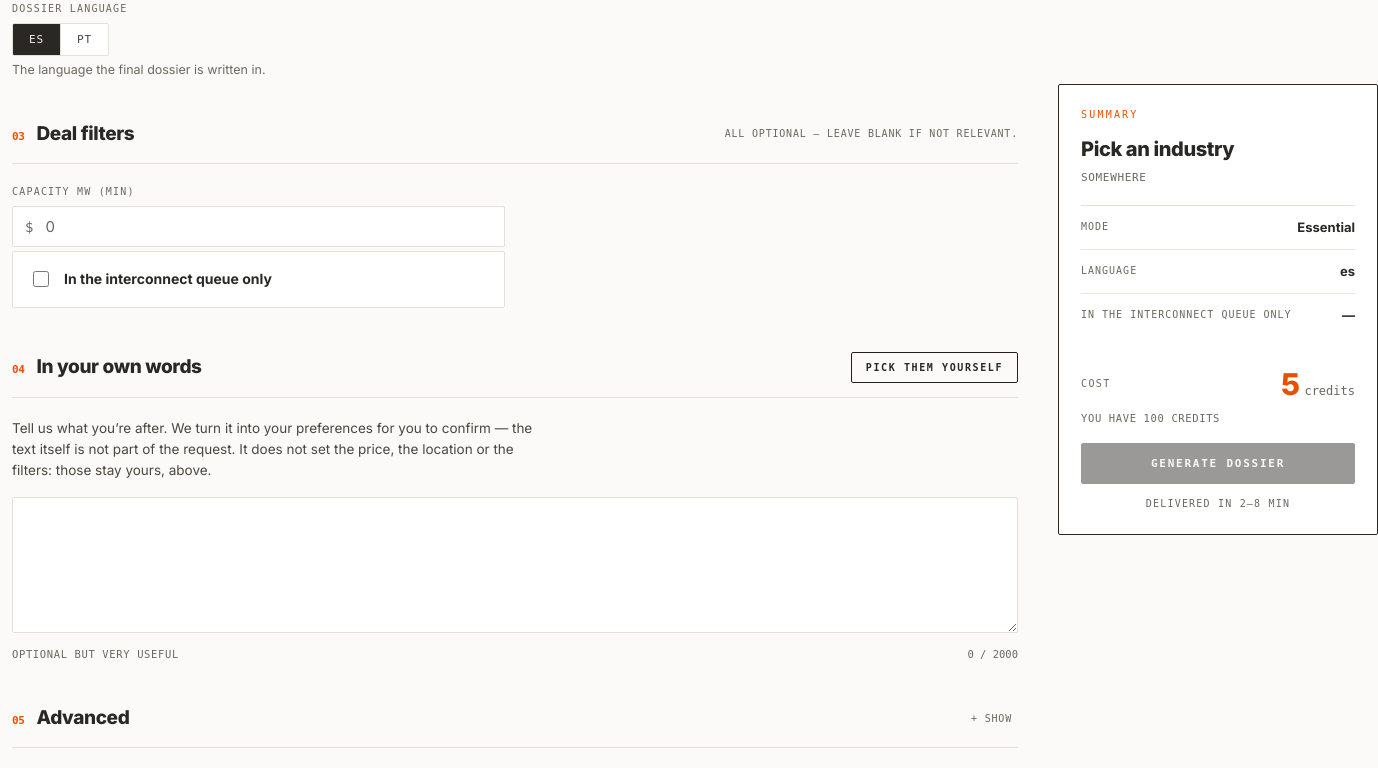
Scenario: the directive block comes entirely from the manifest › the toggle swaps the two inputs, and the notes are kept — hidden is not discarded
(page scrolled)
Type "absentee owners only" into the text box with test id "free-text".
click(515, 565); type("absentee owners only")  # box [12,497,1018,633]
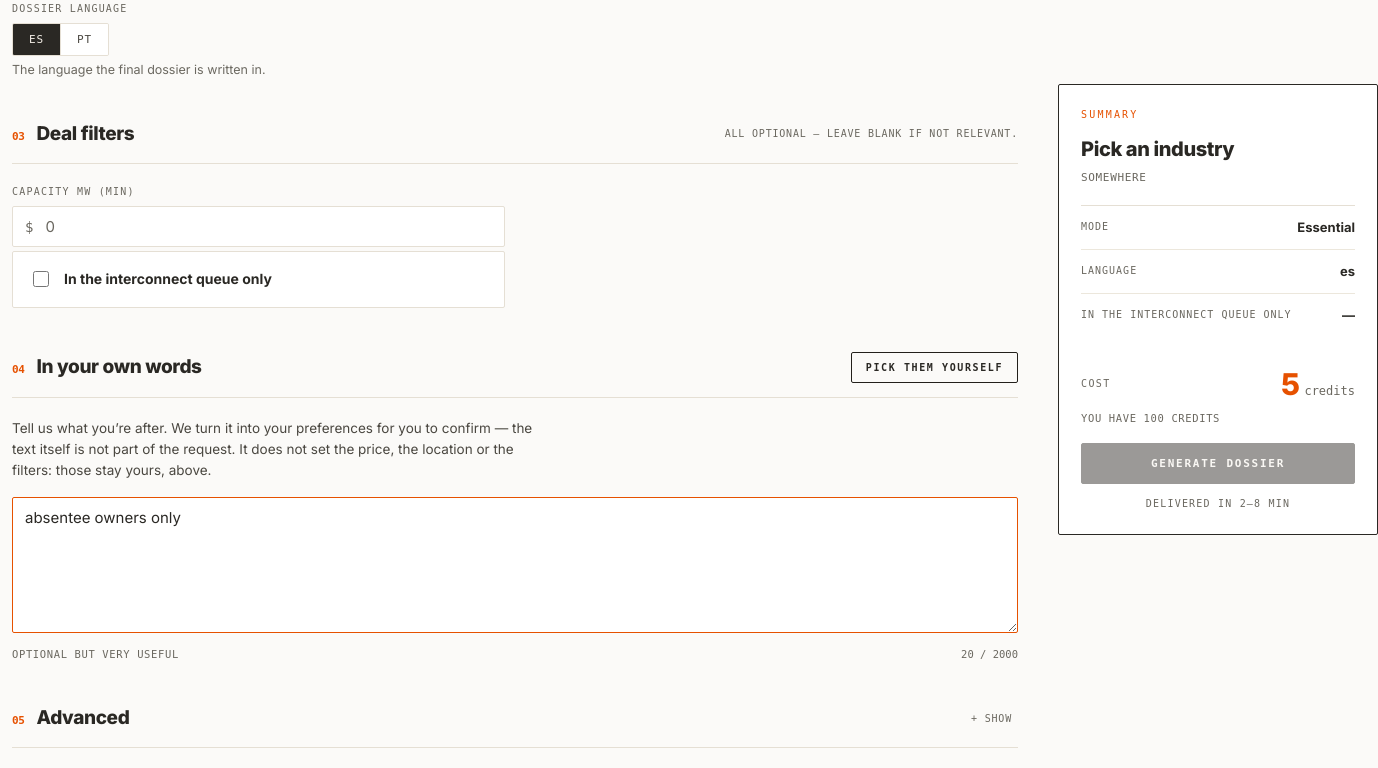
Click the button with test id "toggle-preferences".
click(934, 367)  # box [851,352,1018,383]
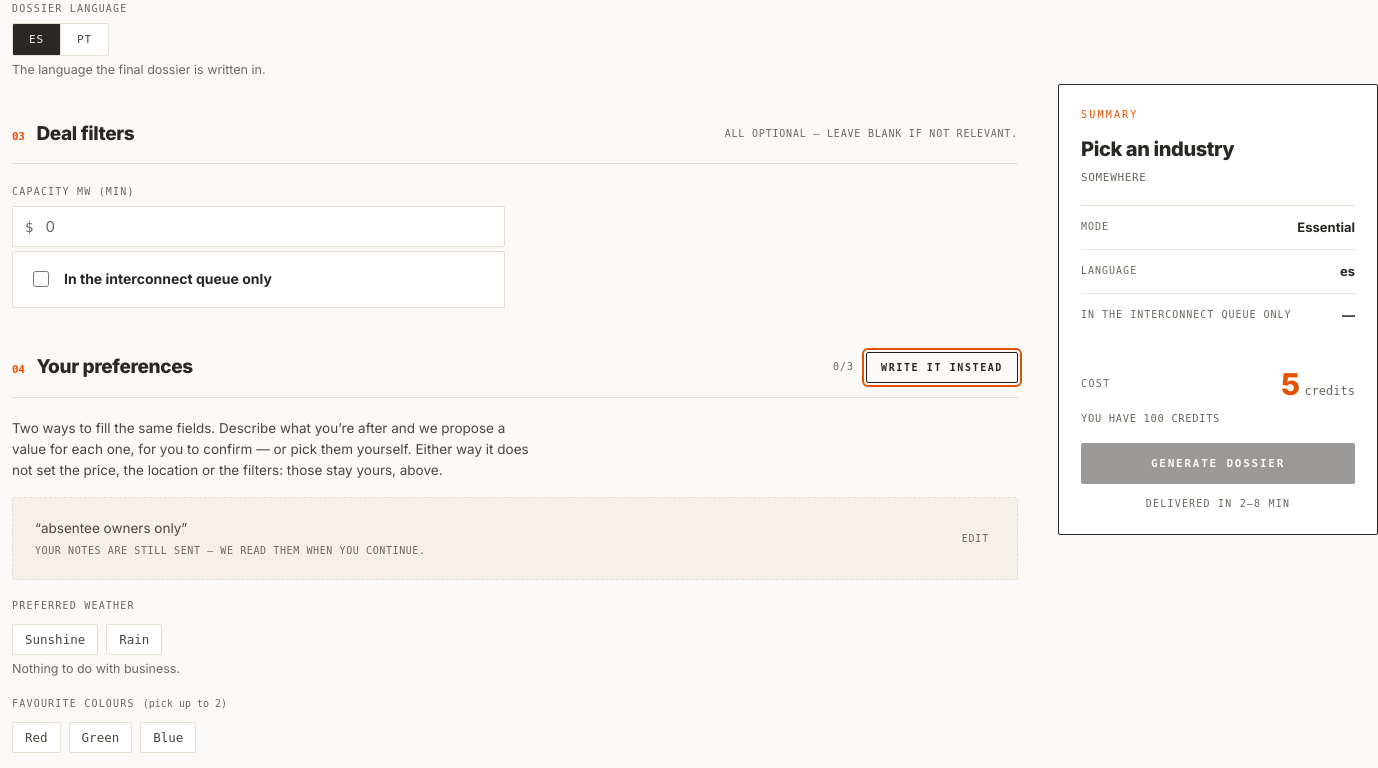
Expected: the text box with test id "free-text" is gone
Expected: the button "Sunshine" is shown, [12,624,98,655]
Expected: the text with test id "notes-collapsed" shows "absentee owners only", [41,520,181,536]
Note: …and back, with the text still in it.
Click the button with test id "toggle-preferences".
click(942, 367)  # box [866,352,1018,383]
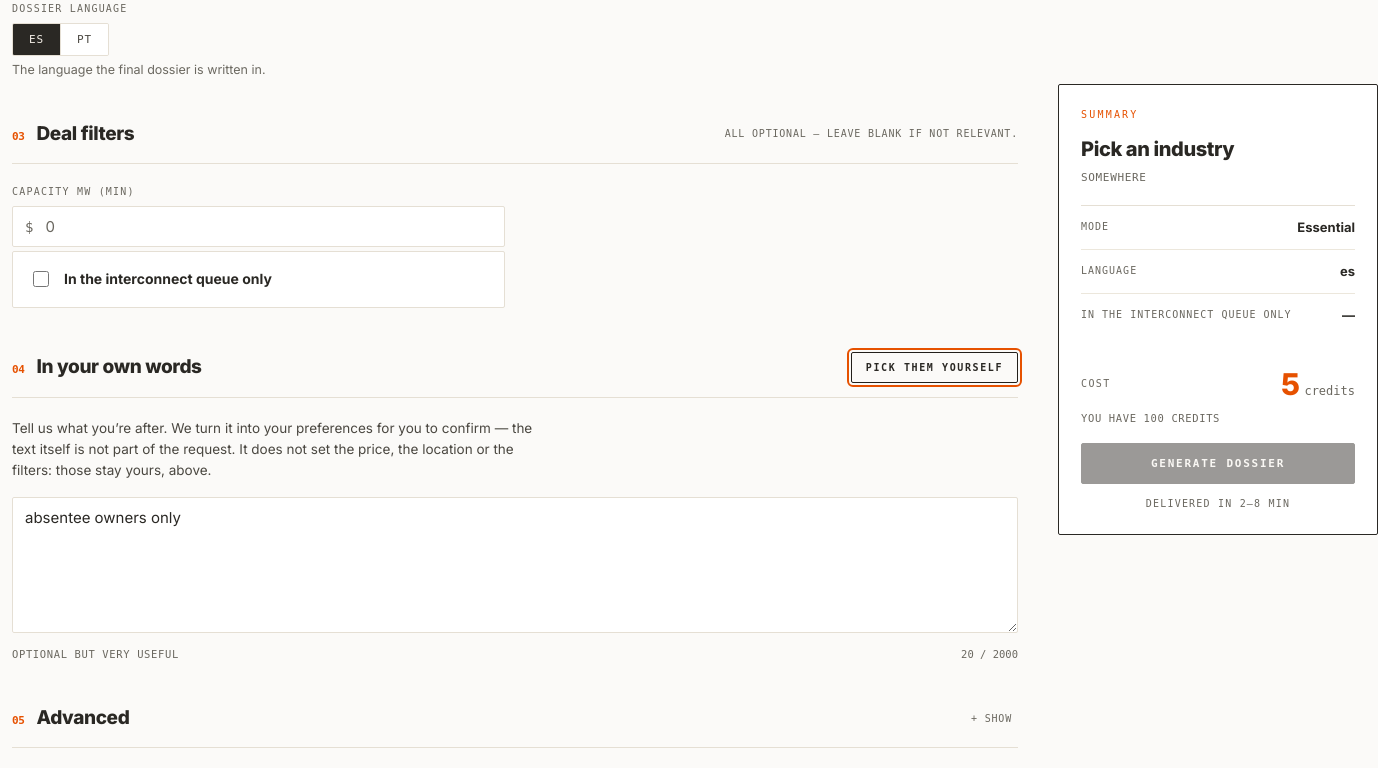
Expected: the text box with test id "free-text" holds "absentee owners only", [12,497,1018,633]
Expected: the button "Sunshine" is gone
